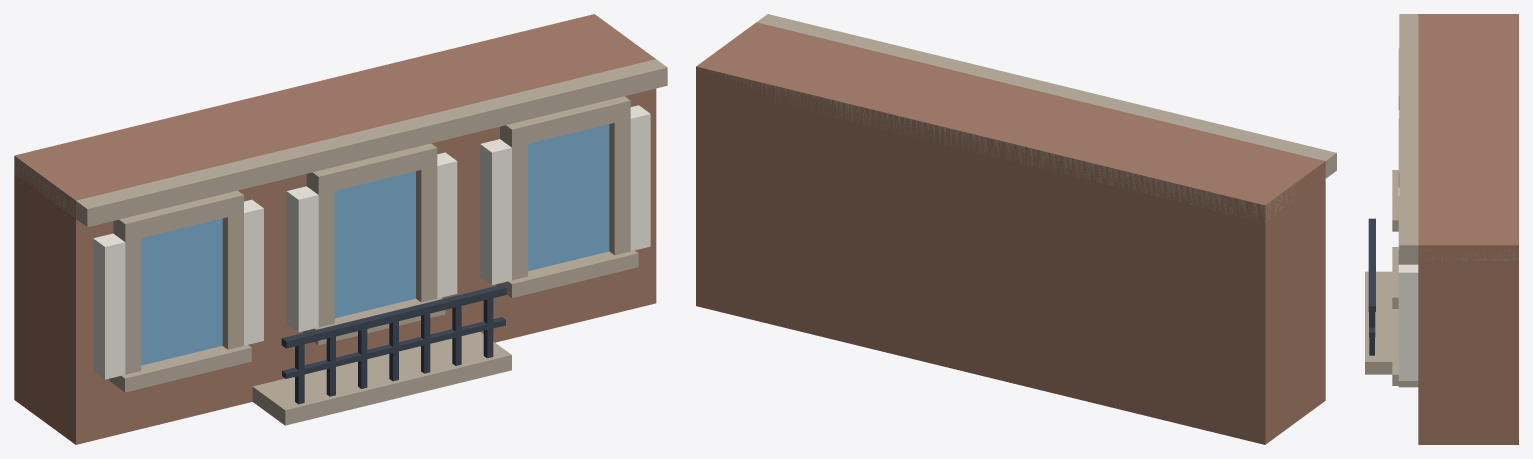
File: cittaMattonePianoA.glb
The picture shows the model from 3 angles, left to right: view 1: azimuth 30°, elevation 25°; view 2: azimuth 150°, elevation 25°; view 3: azimuth 270°, elevation 25°; orthographic projection. The views are drawn at different scales.
Visible parts, largest first — view 1: cittaMattonePianoA_cittaMattone, cittaMattonePianoA_stone, cittaMattonePianoA_glass, cittaMattonePianoA_white, cittaMattonePianoA_steelDark; view 2: cittaMattonePianoA_cittaMattone, cittaMattonePianoA_stone; view 3: cittaMattonePianoA_cittaMattone, cittaMattonePianoA_stone, cittaMattonePianoA_white, cittaMattonePianoA_steelDark.
Boxes of the visible parts, x1,y1,x2,y2 form: cittaMattonePianoA_cittaMattone: (14, 14, 656, 444); cittaMattonePianoA_stone: (14, 59, 667, 425); cittaMattonePianoA_glass: (141, 124, 609, 365); cittaMattonePianoA_white: (93, 105, 650, 379); cittaMattonePianoA_steelDark: (281, 284, 506, 404); cittaMattonePianoA_cittaMattone: (696, 22, 1325, 444); cittaMattonePianoA_stone: (698, 14, 1336, 222); cittaMattonePianoA_cittaMattone: (1418, 14, 1518, 444); cittaMattonePianoA_stone: (1365, 14, 1517, 387); cittaMattonePianoA_white: (1398, 110, 1418, 380); cittaMattonePianoA_steelDark: (1368, 218, 1375, 355).
Bounding box in the file's own units: 8.7 × 3.5 × 2.44.
